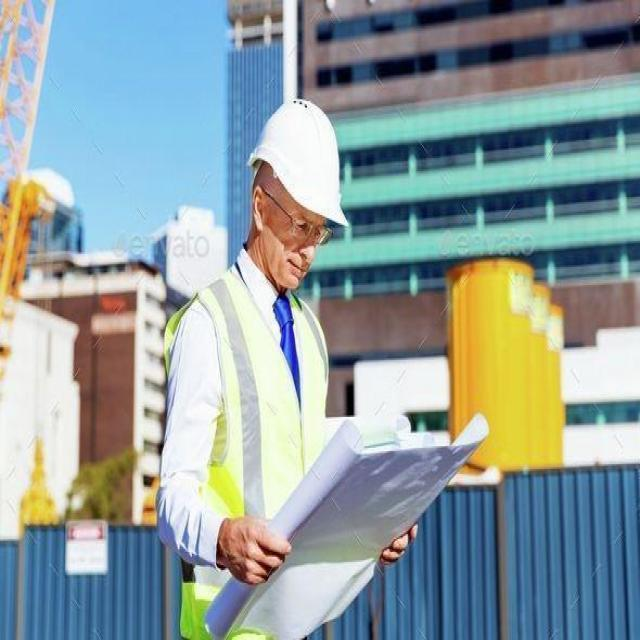helmet: (246, 90, 358, 237)
vest: (166, 263, 332, 640)
